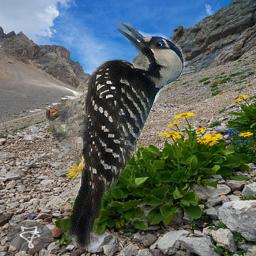Woodpecker: (46, 23, 187, 252)
